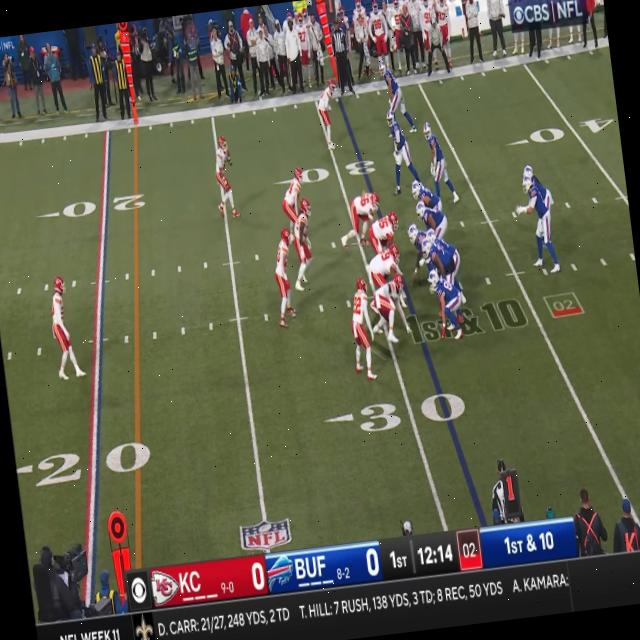Player: (520, 173, 558, 275), (346, 276, 380, 378), (269, 226, 301, 325), (428, 266, 467, 342), (288, 198, 320, 290), (371, 273, 409, 343), (210, 134, 240, 218), (422, 117, 452, 194), (314, 76, 344, 152), (384, 108, 409, 190), (345, 188, 381, 232), (378, 58, 406, 114), (278, 162, 306, 218), (366, 242, 402, 284), (367, 211, 402, 253), (420, 233, 455, 275), (524, 162, 552, 210), (412, 175, 444, 212), (416, 198, 448, 235), (427, 229, 460, 263), (406, 223, 426, 277)
Referee: (328, 18, 354, 96)
